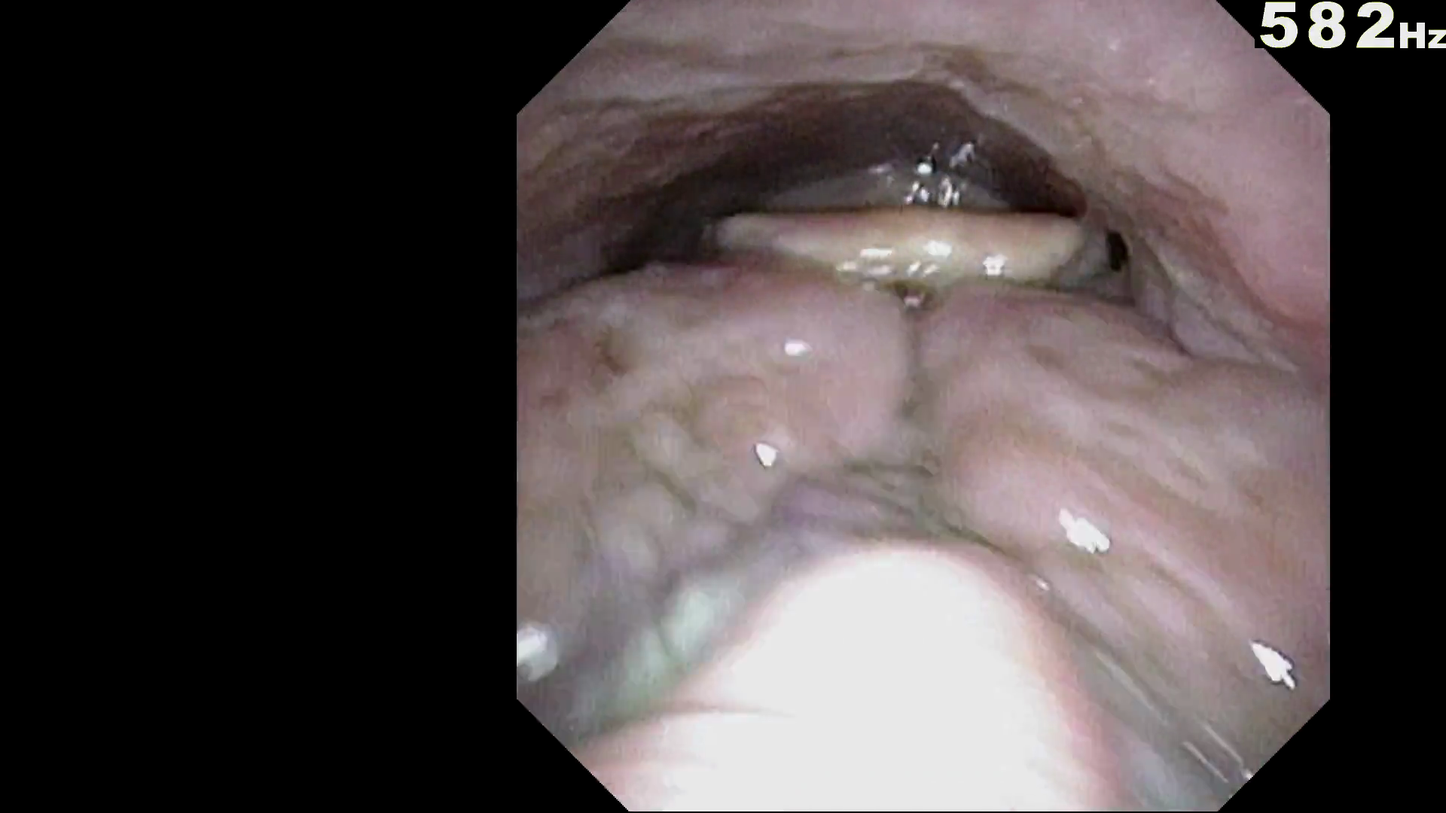epiglottis: (692, 235, 1134, 367)
trachea: (880, 330, 991, 453)
